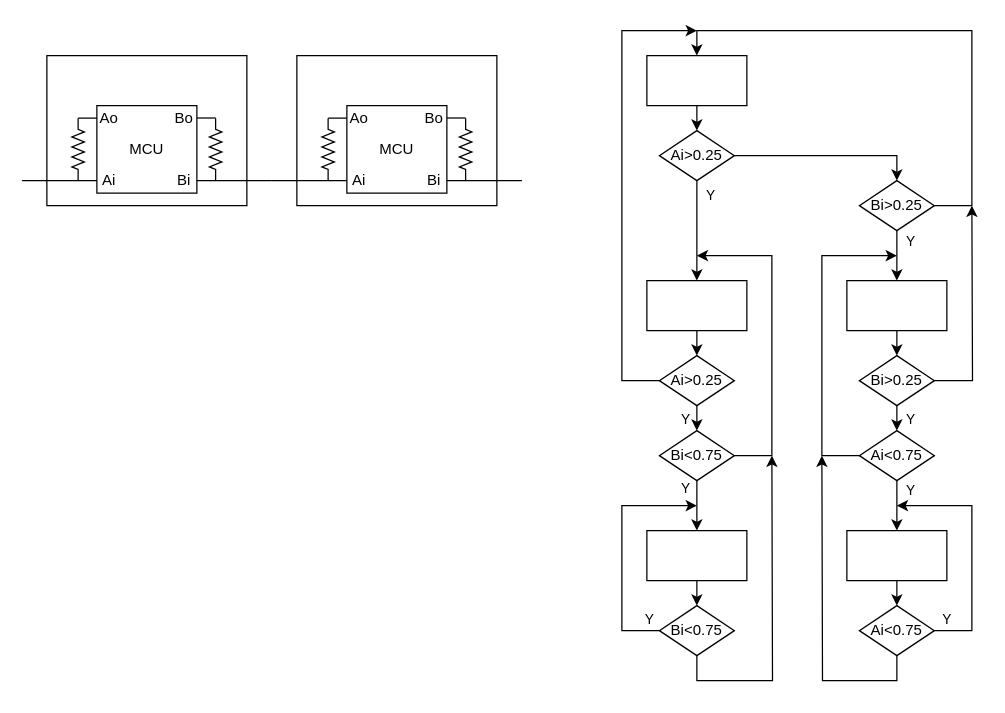
This 1005x713 diagram has some shape labels left out. Here are the shapes that lost their labels. From the top down, the box of each, then its label:
(646, 54, 747, 106): NO_CONN
(646, 279, 747, 331): PWR_A [Bo,TERM]
(846, 279, 947, 331): PWR_B [Ao,TERM]
(646, 529, 747, 581): CON_B [Bo,LEDB]
(846, 529, 947, 581): CON_A [Ao,LEDA]
